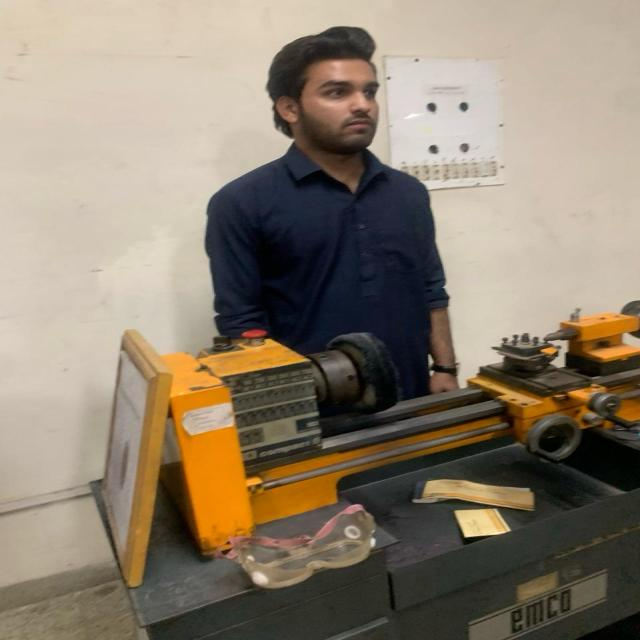dress: (205, 135, 460, 354)
